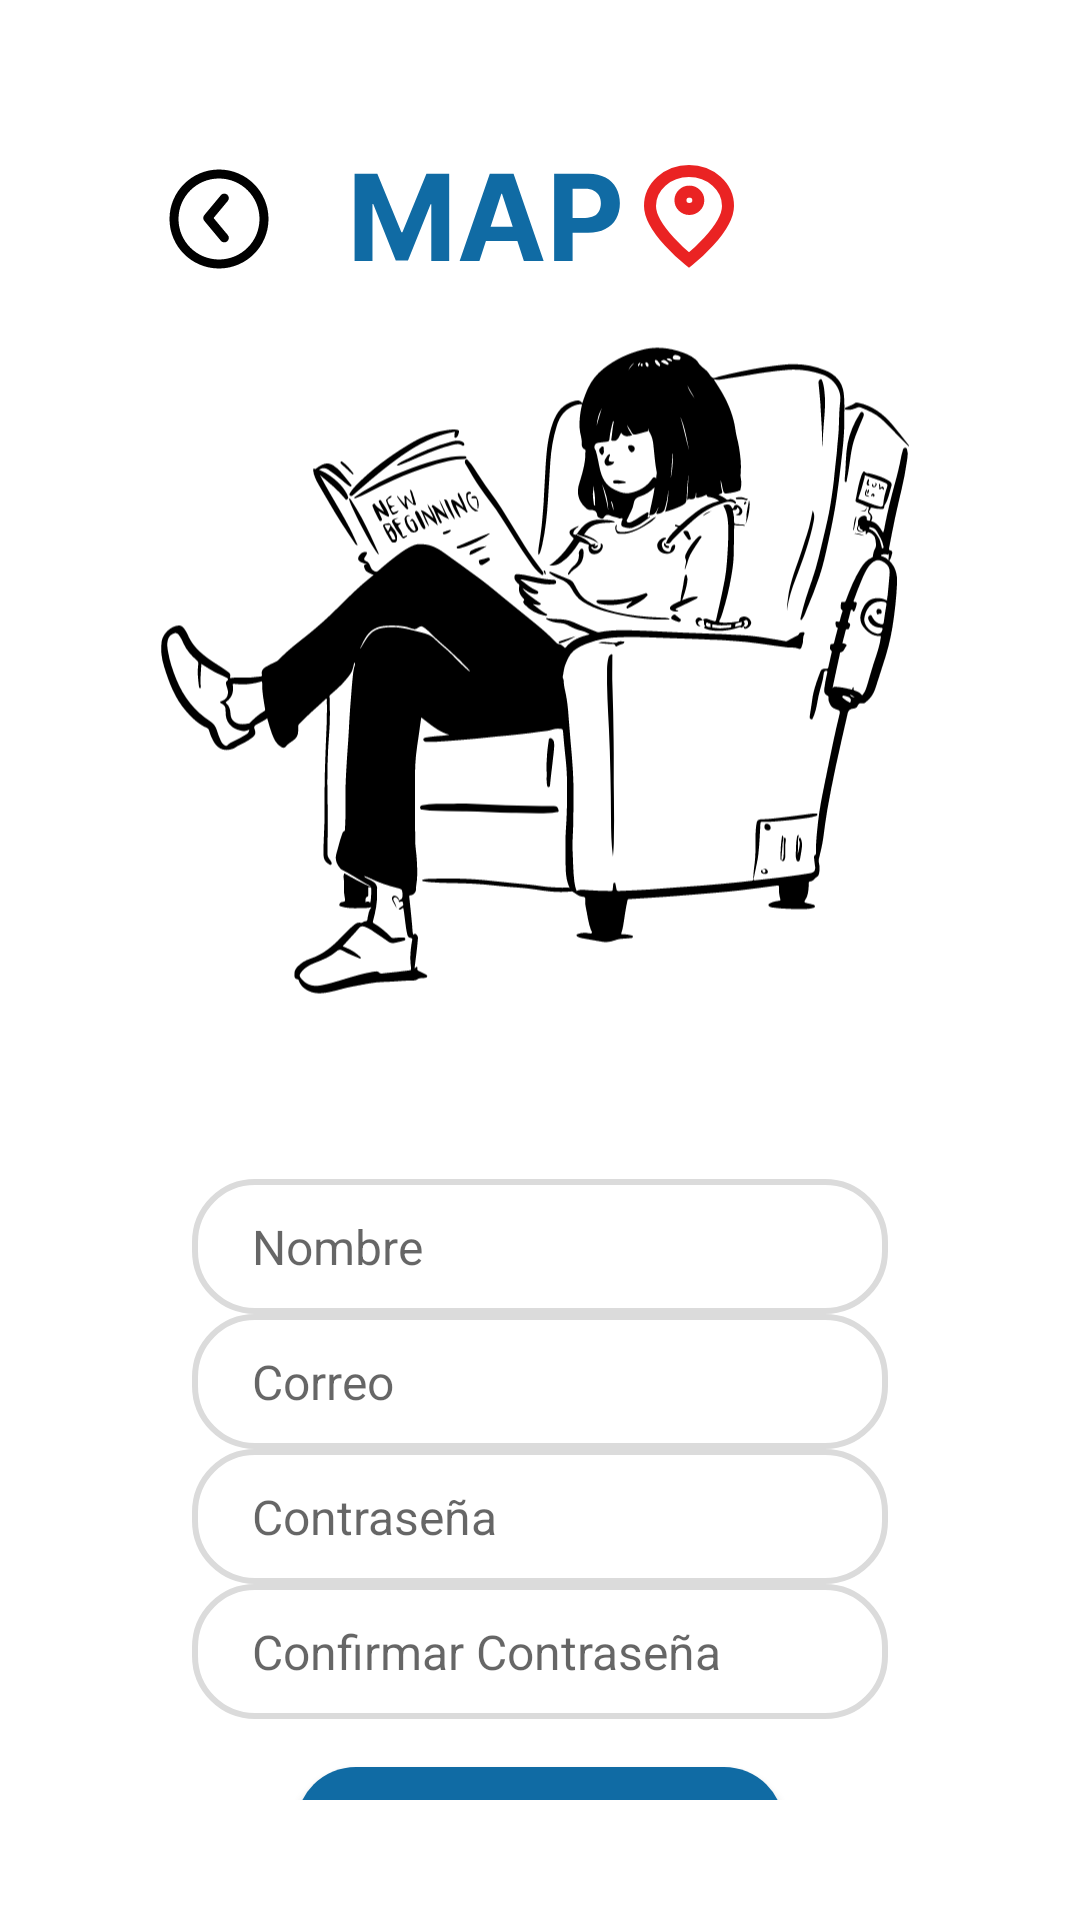

Icon click points for this 1080×1920 phone screenshot, format [x,y]:
Back Icon: [219,219]
